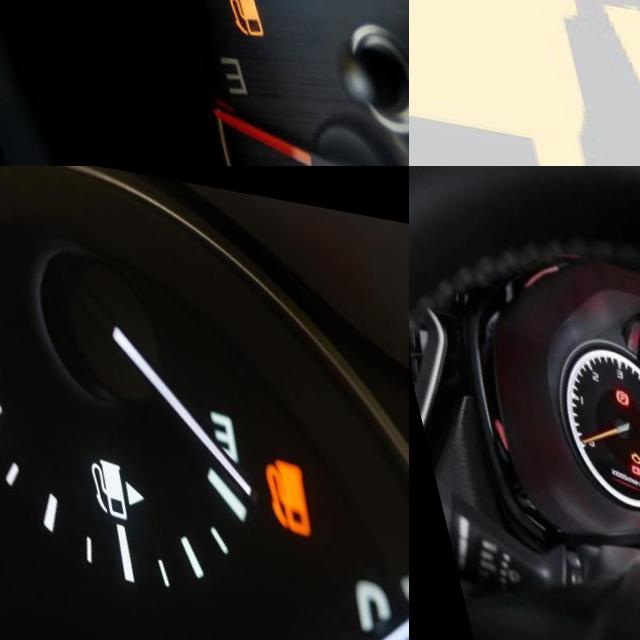Seat Belt: (629, 407, 639, 422)
